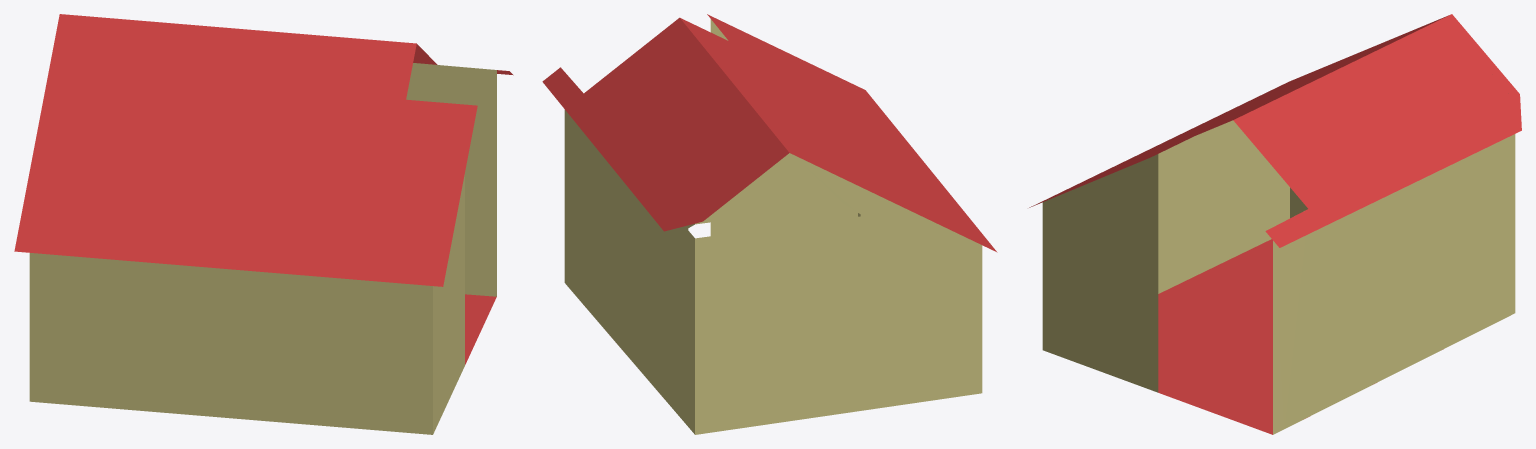
3 views of the same model, side by side, from view 1: azimuth 30°, elevation 25°; view 2: azimuth 150°, elevation 25°; view 3: azimuth 270°, elevation 25° (orthographic). The views are drawn at different scales.
Size of the model in its own units: 22.14 by 21.01 by 12.59.
